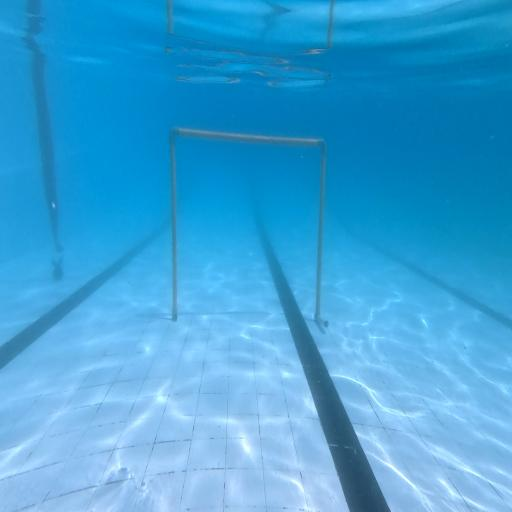gate: (169, 126, 329, 328)
